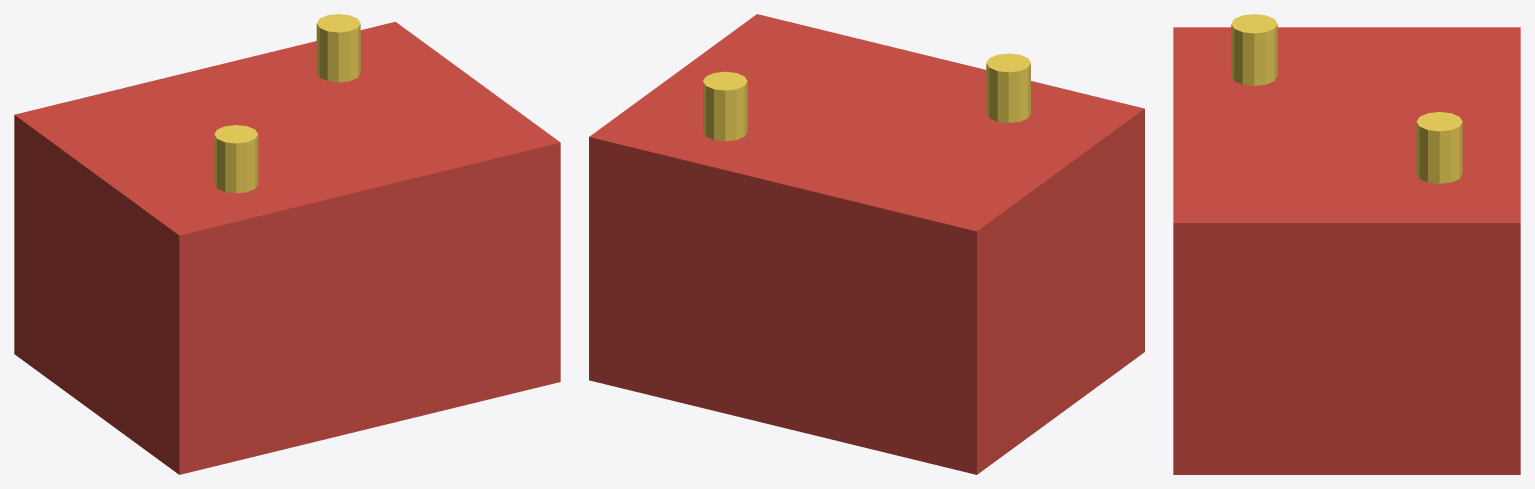
Rendered from sm_product_fireworks_box.glb.
The picture shows the model from 3 angles, left to right: view 1: azimuth 30°, elevation 25°; view 2: azimuth 150°, elevation 25°; view 3: azimuth 270°, elevation 25°; orthographic projection. The views are drawn at different scales.
Visible parts, largest first — view 1: fireworks_box_0, fireworks_box_1, fireworks_box_2; view 2: fireworks_box_0, fireworks_box_1, fireworks_box_2; view 3: fireworks_box_0, fireworks_box_2, fireworks_box_1.
Part boxes in pixels (box(x1,y1,x2,y2)): fireworks_box_0: box(14, 21, 560, 474); fireworks_box_1: box(316, 14, 360, 82); fireworks_box_2: box(214, 125, 258, 193); fireworks_box_0: box(589, 14, 1144, 474); fireworks_box_1: box(703, 71, 747, 141); fireworks_box_2: box(986, 53, 1030, 122); fireworks_box_0: box(1173, 27, 1520, 474); fireworks_box_2: box(1231, 14, 1277, 85); fireworks_box_1: box(1416, 112, 1462, 183).
Size of what is drawn, in the model's own units: 0.4 by 0.29 by 0.3.
